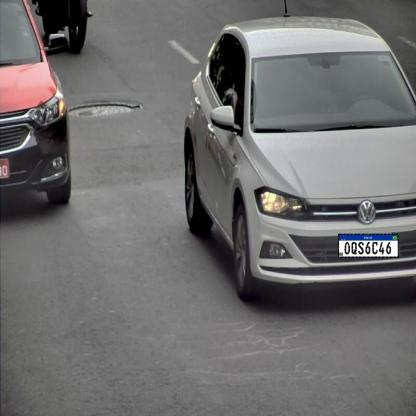PlacaM: (338, 234, 399, 258)
